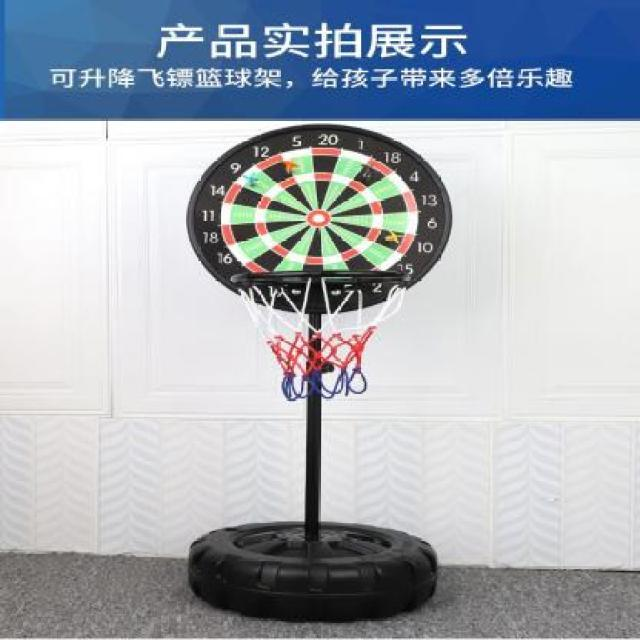rim: (232, 270, 410, 402)
